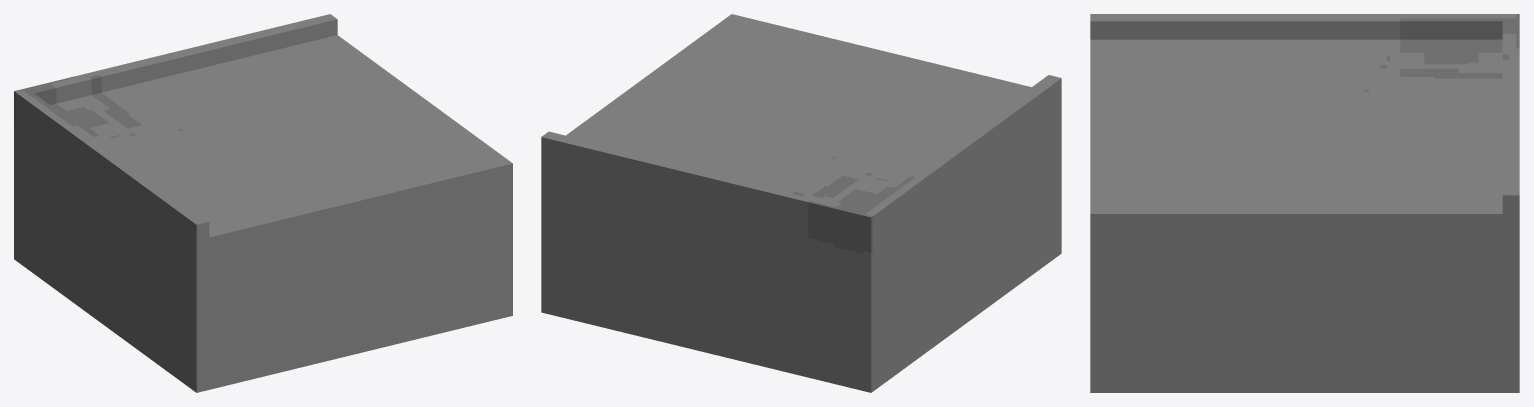
Rendered from 4x2 roof (des)-5.obj.
3 renders of one model, left to right at view 1: azimuth 30°, elevation 25°; view 2: azimuth 150°, elevation 25°; view 3: azimuth 270°, elevation 25°, orthographic. The views are drawn at different scales.
Visible parts, largest first — view 1: 4x2 roof (des)-5; view 2: 4x2 roof (des)-5; view 3: 4x2 roof (des)-5.
Part boxes in pixels (<box>): 4x2 roof (des)-5: <box>14,14,512,392</box>; 4x2 roof (des)-5: <box>541,14,1061,392</box>; 4x2 roof (des)-5: <box>1090,14,1519,392</box>.
Size of the model in its own units: 126 by 64 by 126.
1 material, 1 textured.
